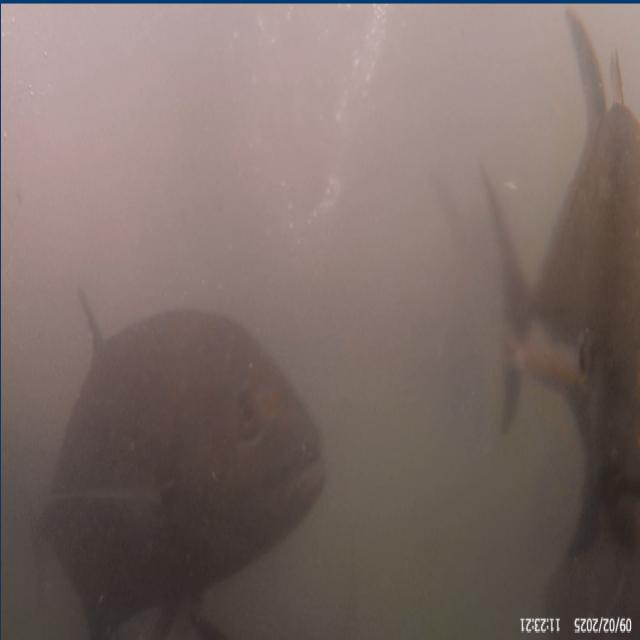ikan: (31, 251, 356, 614), (479, 107, 634, 559)
